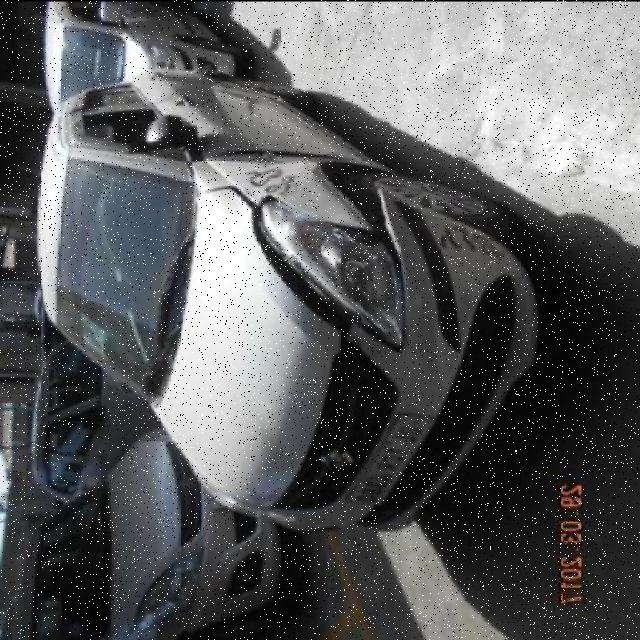damage: (206, 179, 373, 349), (300, 161, 414, 355), (204, 139, 355, 164), (254, 422, 305, 473)
